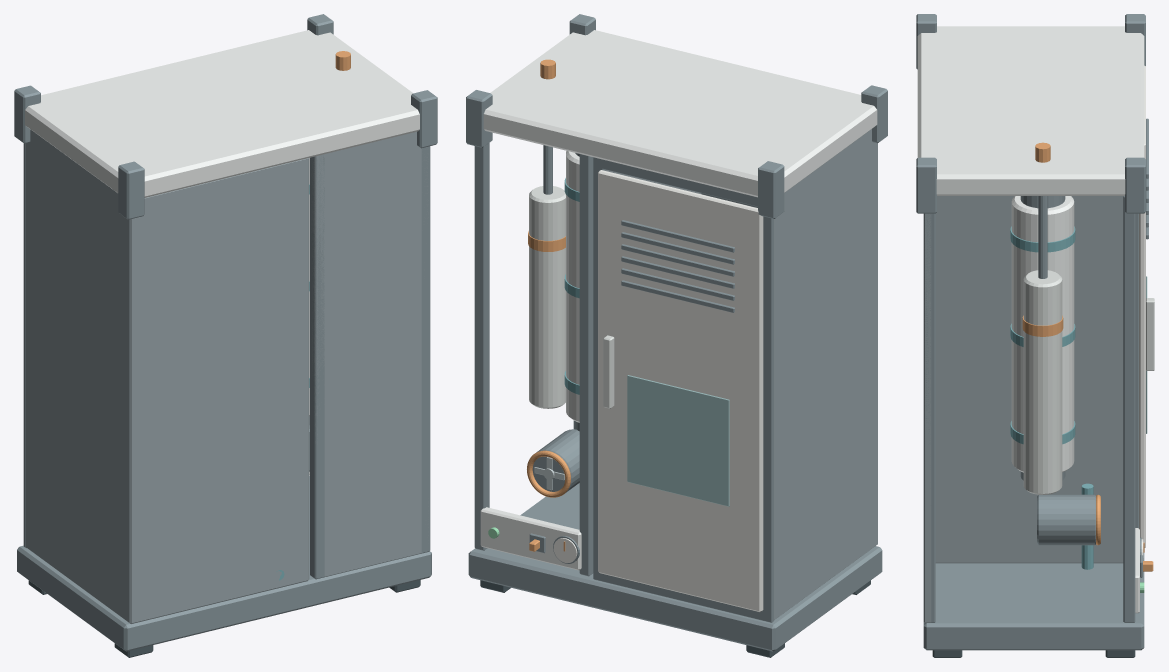
File: oxygen_generator.glb
3 renders of one model, left to right at view 1: azimuth 30°, elevation 25°; view 2: azimuth 150°, elevation 25°; view 3: azimuth 270°, elevation 25°, orthographic.
Parts seen in each view (by area): view 1: cabinet_shell_slate_panel, bay_back_panel_slate_panel, top_cap_white_ceramic, plinth_dark_alloy, bay_frame_dark_alloy, corner_blocks_dark_alloy, door_frame_dark_alloy; view 2: service_door_white_painted, cabinet_shell_slate_panel, top_cap_white_ceramic, plinth_dark_alloy, bay_frame_dark_alloy, service_door_window_teal_soft, door_frame_dark_alloy, h2_separator_satin_steel, service_door_louvres_dark_alloy, corner_blocks_dark_alloy, o2_separator_white_ceramic, control_panel_white_ceramic (+3 smaller); view 3: cabinet_shell_slate_panel, top_cap_white_ceramic, plinth_dark_alloy, h2_separator_satin_steel, o2_separator_white_ceramic, bay_frame_dark_alloy, bay_back_panel_slate_panel, corner_blocks_dark_alloy, pump_housing_dark_alloy, service_door_white_painted, o2_separator_bands_teal, door_frame_dark_alloy (+8 smaller).
Part boxes in pixels (box(x1,y1,x2,y2)): cabinet_shell_slate_panel: box(26, 129, 309, 623); bay_back_panel_slate_panel: box(311, 131, 429, 577); top_cap_white_ceramic: box(25, 30, 419, 197); plinth_dark_alloy: box(17, 476, 431, 651); bay_frame_dark_alloy: box(310, 146, 430, 579); corner_blocks_dark_alloy: box(14, 14, 437, 219); door_frame_dark_alloy: box(23, 143, 26, 547); service_door_white_painted: box(598, 170, 763, 611); cabinet_shell_slate_panel: box(605, 129, 877, 619); top_cap_white_ceramic: box(483, 30, 877, 197); plinth_dark_alloy: box(468, 483, 882, 651); bay_frame_dark_alloy: box(474, 143, 593, 576); service_door_window_teal_soft: box(627, 375, 729, 506); door_frame_dark_alloy: box(593, 157, 773, 622); h2_separator_satin_steel: box(529, 186, 565, 408); service_door_louvres_dark_alloy: box(621, 220, 734, 312); corner_blocks_dark_alloy: box(466, 14, 887, 218); o2_separator_white_ceramic: box(566, 151, 579, 422); control_panel_white_ceramic: box(480, 507, 581, 570); cabinet_shell_slate_panel: box(935, 196, 1123, 563); top_cap_white_ceramic: box(917, 26, 1144, 195); plinth_dark_alloy: box(923, 552, 1144, 650); h2_separator_satin_steel: box(1023, 270, 1062, 494); o2_separator_white_ceramic: box(1011, 196, 1074, 472); bay_frame_dark_alloy: box(924, 196, 1135, 622); bay_back_panel_slate_panel: box(923, 213, 931, 622); corner_blocks_dark_alloy: box(916, 14, 1145, 213); pump_housing_dark_alloy: box(1037, 494, 1095, 545); service_door_white_painted: box(1139, 65, 1145, 547); o2_separator_bands_teal: box(1010, 226, 1075, 444); door_frame_dark_alloy: box(1135, 213, 1138, 528).
Bounding box in the file's own units: 1.21 × 1.86 × 0.8.
